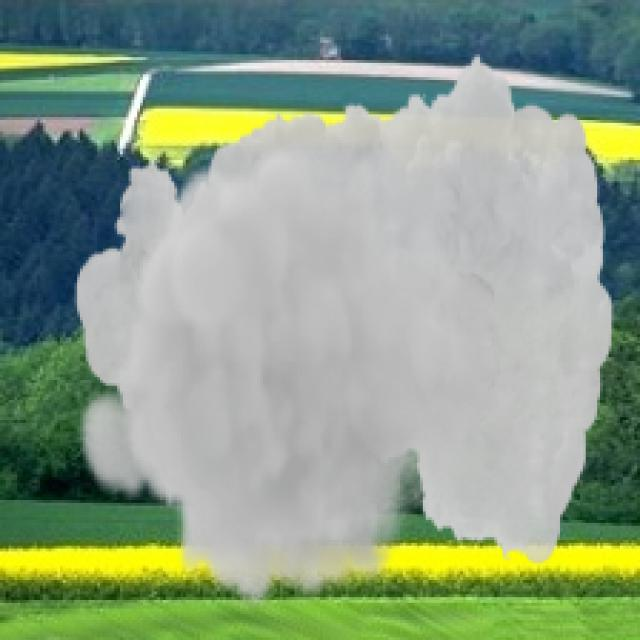smoke: (75, 51, 614, 608)
